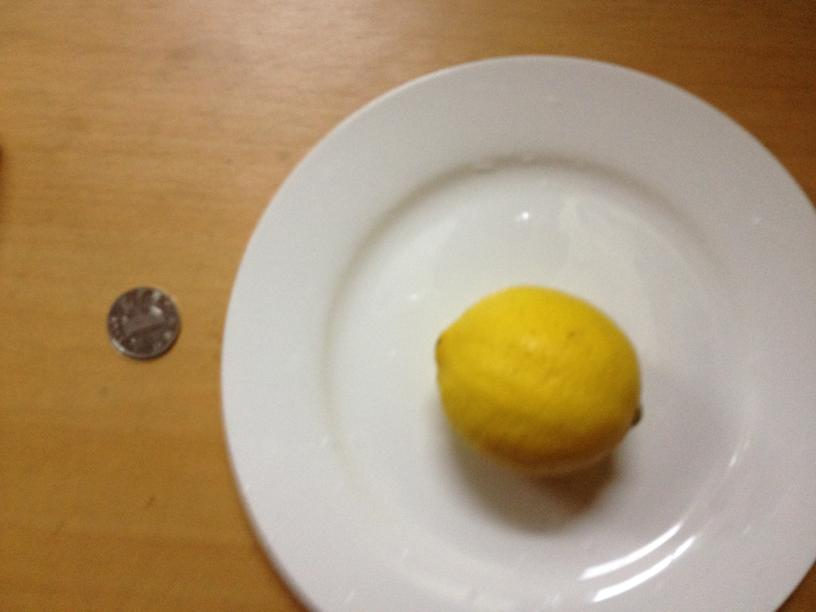coin: (106, 283, 182, 359)
lemon: (433, 285, 641, 474)
